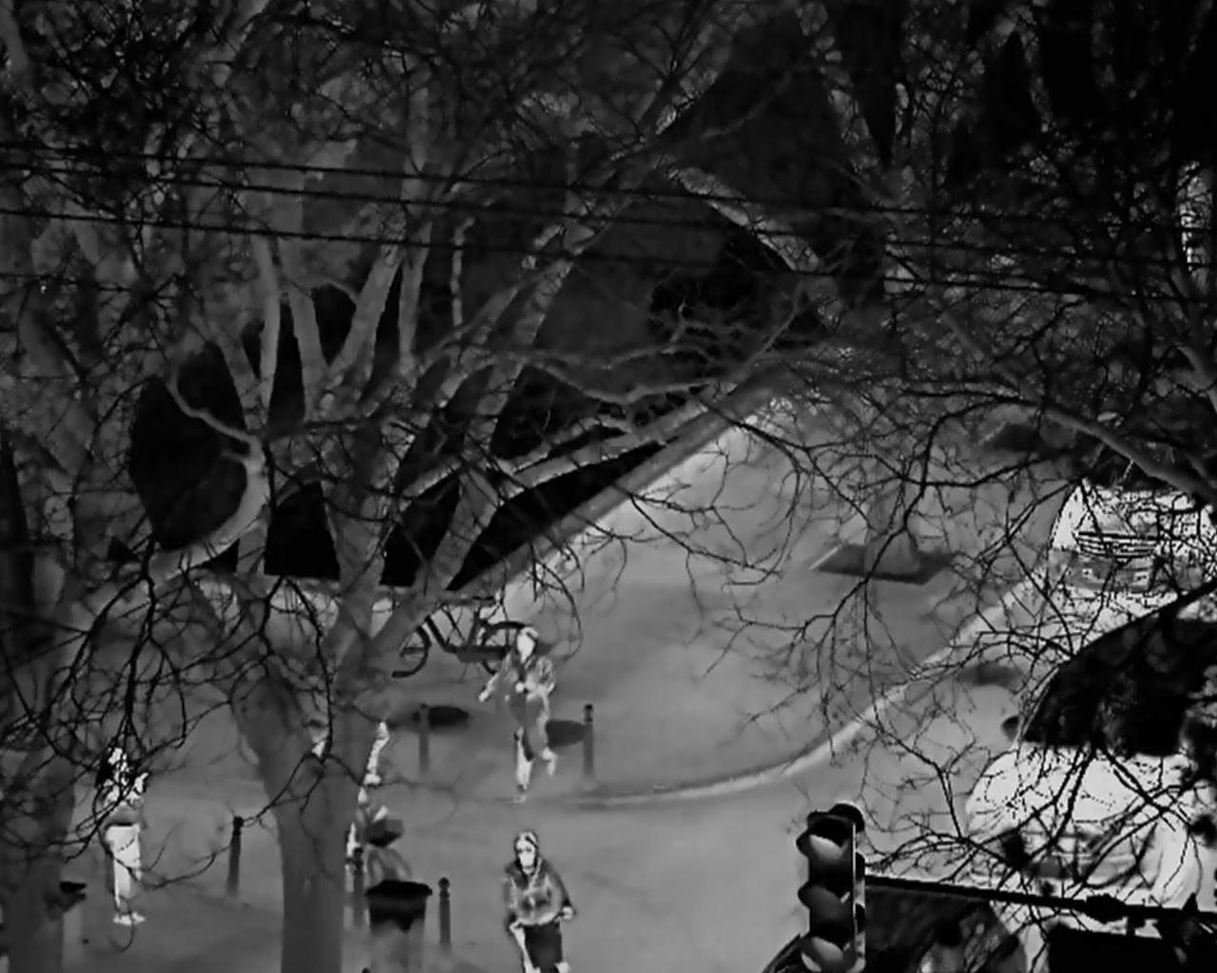person: (475, 625, 559, 803), (502, 829, 576, 973), (99, 747, 148, 924)
